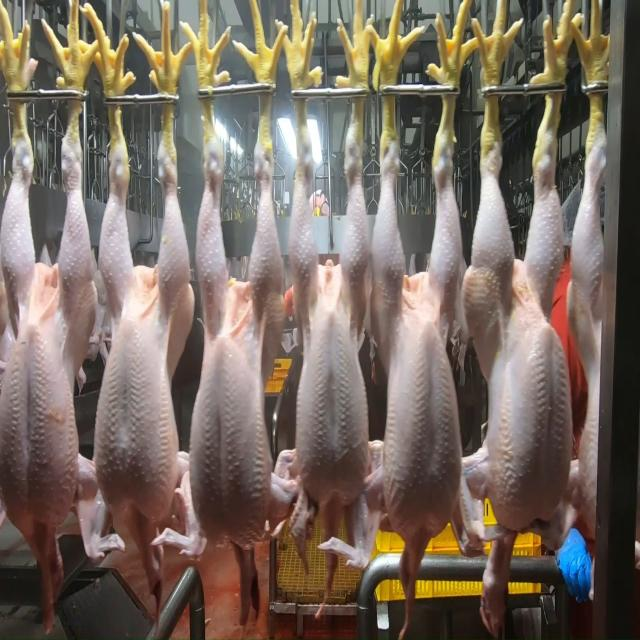chicken: (464, 87, 575, 535), (93, 141, 196, 533), (368, 128, 466, 530), (2, 168, 96, 559), (192, 142, 274, 551), (281, 143, 371, 497), (568, 83, 607, 574)
